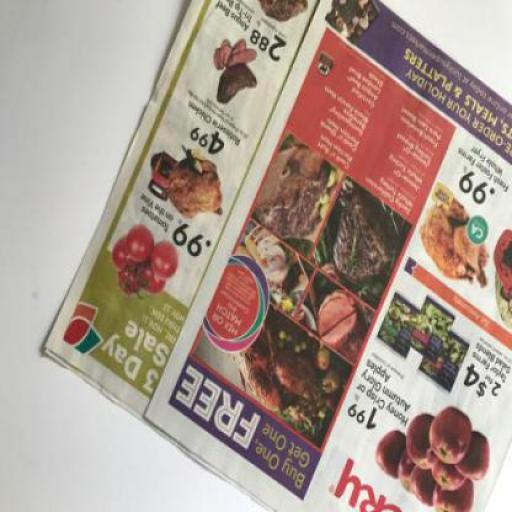paper: (144, 1, 511, 511), (45, 1, 323, 479)
